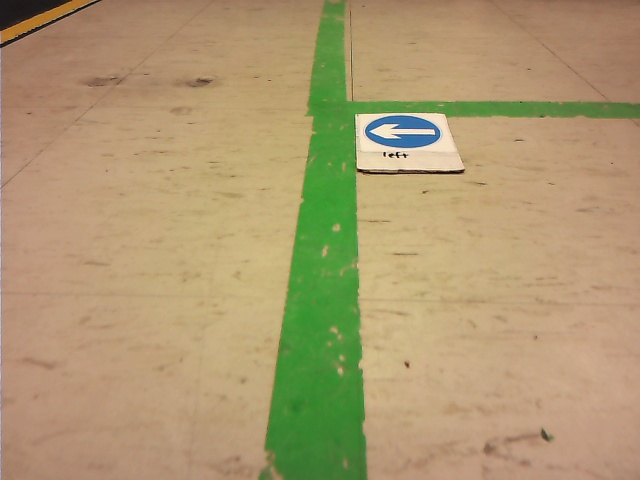TURN LEFT: (364, 115, 441, 148)
